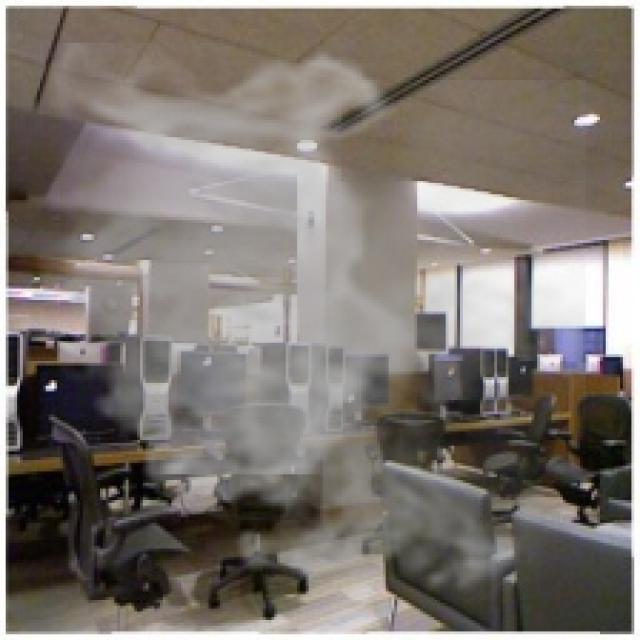Smoke: (17, 42, 586, 608)
